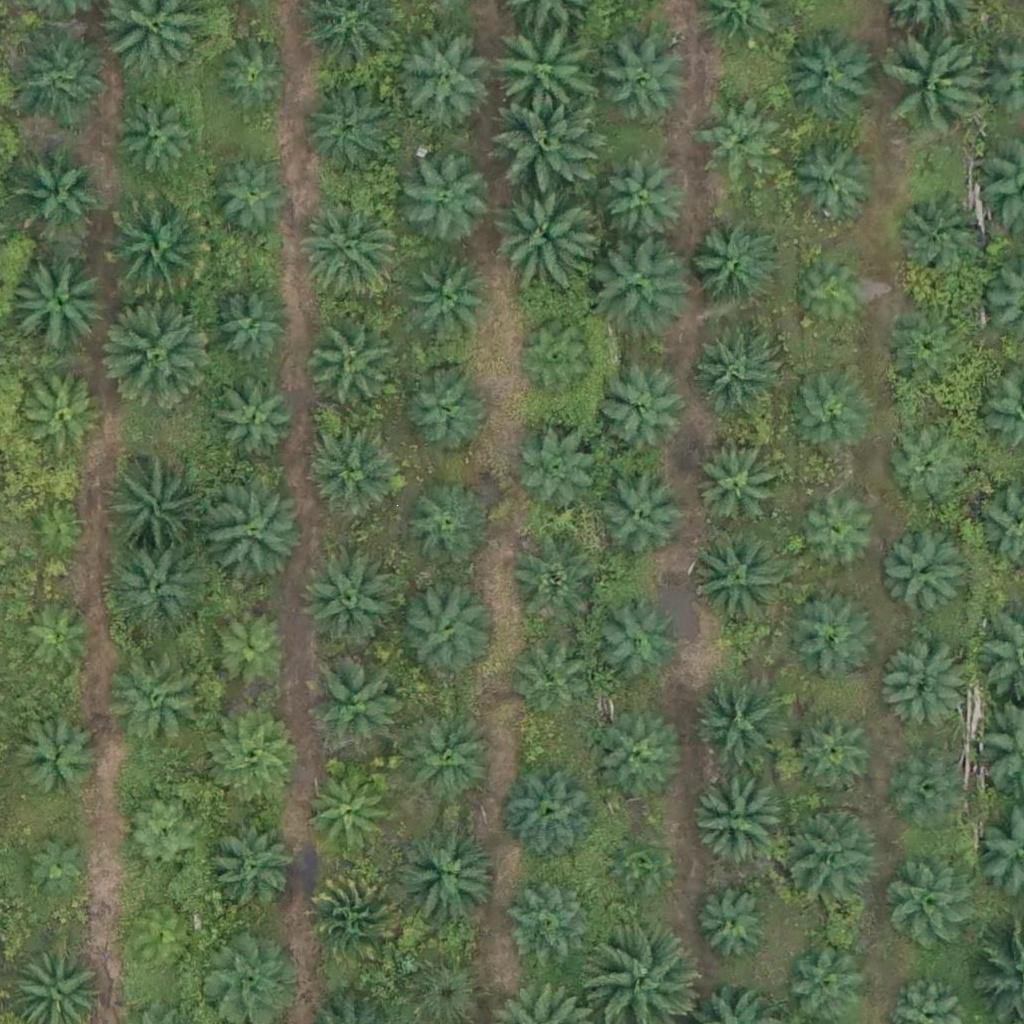Kelapa_Sawit: (104, 195, 216, 308), (100, 294, 212, 407), (776, 804, 876, 905), (503, 764, 603, 865), (395, 821, 495, 922), (9, 253, 109, 354), (7, 33, 107, 134), (112, 541, 212, 642), (108, 655, 208, 756), (205, 702, 305, 803), (208, 478, 308, 579), (304, 650, 404, 751), (301, 193, 401, 294), (307, 424, 407, 525), (392, 27, 492, 128), (397, 573, 497, 674), (395, 706, 495, 807), (493, 27, 593, 128), (491, 180, 591, 281), (594, 236, 694, 337), (689, 532, 789, 633), (692, 672, 792, 773), (887, 38, 987, 139), (894, 186, 994, 287), (690, 771, 790, 871), (308, 868, 408, 968), (299, 552, 399, 652), (498, 98, 598, 198), (777, 29, 877, 129), (784, 133, 884, 233), (18, 147, 106, 236), (693, 225, 781, 314), (891, 864, 979, 952), (506, 885, 594, 973), (302, 770, 390, 858), (18, 371, 106, 459), (308, 93, 396, 181), (402, 364, 490, 452), (403, 484, 491, 572), (517, 428, 605, 516), (510, 542, 598, 630), (603, 160, 691, 248), (595, 371, 683, 459), (599, 472, 687, 560), (591, 601, 679, 689), (696, 95, 784, 183), (693, 331, 781, 419), (889, 310, 977, 398), (120, 791, 208, 879), (209, 379, 296, 468), (405, 250, 492, 339), (202, 821, 289, 909), (13, 715, 100, 803), (118, 90, 205, 178), (111, 477, 198, 565), (112, 904, 199, 992), (210, 601, 297, 689), (211, 33, 298, 121), (208, 154, 295, 242), (213, 284, 300, 372), (307, 322, 394, 410), (405, 160, 492, 248), (508, 637, 595, 725), (511, 319, 598, 407), (598, 717, 685, 805), (600, 39, 687, 127), (696, 445, 783, 533), (791, 709, 878, 797), (791, 591, 878, 679), (798, 487, 885, 575), (786, 364, 873, 452), (885, 427, 972, 515), (884, 536, 971, 624), (881, 644, 968, 732), (796, 258, 871, 334), (695, 887, 770, 963), (895, 754, 970, 830), (23, 493, 98, 569), (20, 596, 95, 672), (21, 828, 96, 903), (606, 831, 668, 894)
